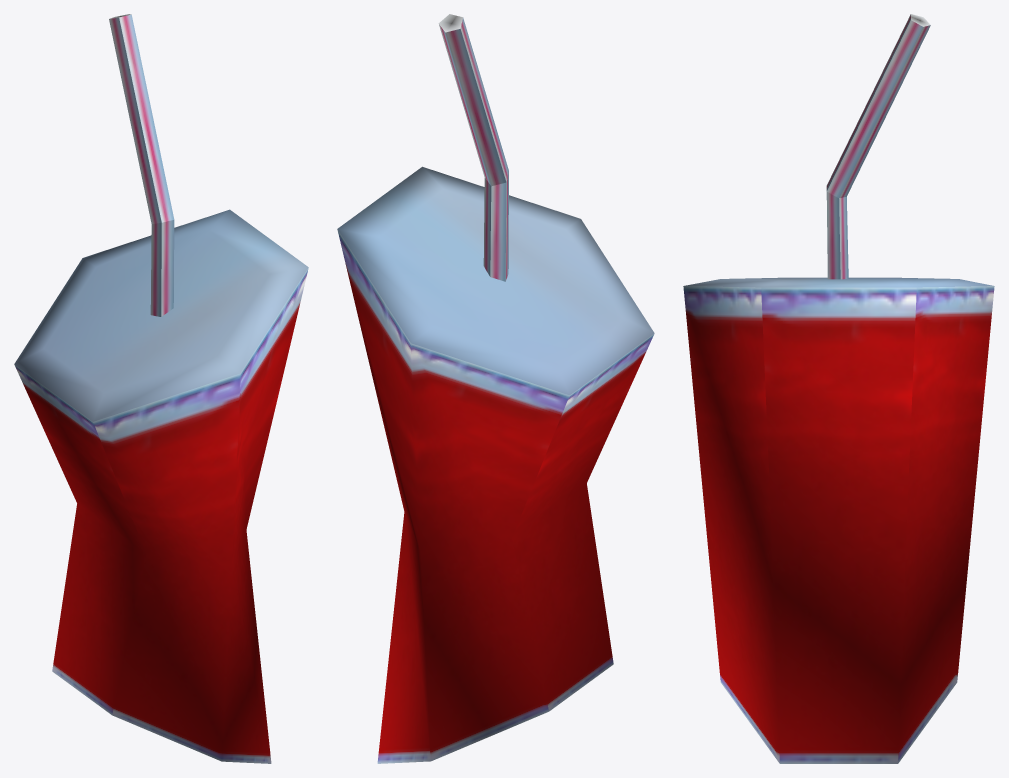
Rendered from soda_cup_crushed.glb.
3 renders of one model, left to right at view 1: azimuth 30°, elevation 25°; view 2: azimuth 150°, elevation 25°; view 3: azimuth 270°, elevation 25°, orthographic. The views are drawn at different scales.
Visible parts, largest first — view 1: Soda_Cup_Crushed; view 2: Soda_Cup_Crushed; view 3: Soda_Cup_Crushed.
Part boxes in pixels (x1,y1,x2,y2): Soda_Cup_Crushed: (14,14,308,763); Soda_Cup_Crushed: (337,14,654,763); Soda_Cup_Crushed: (683,14,994,763).
Bounding box in the file's own units: 0.2207 × 0.7027 × 0.2797.
1 material, 1 textured.
